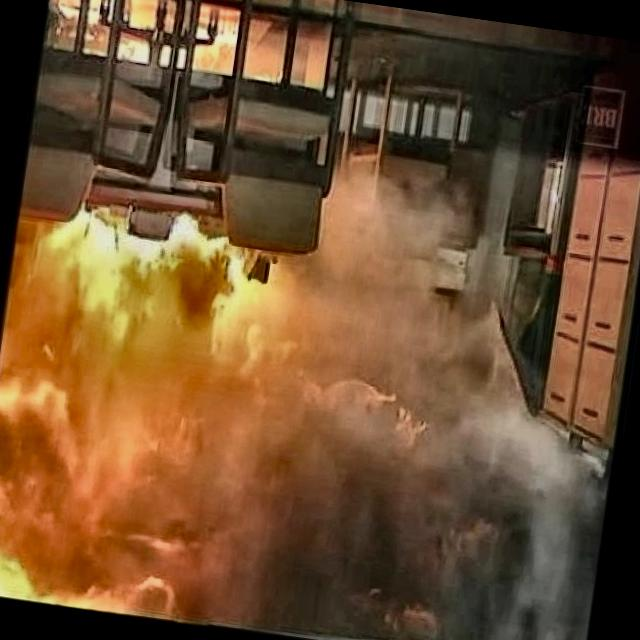fire: (0, 245, 311, 634)
smoke: (283, 383, 614, 640)
